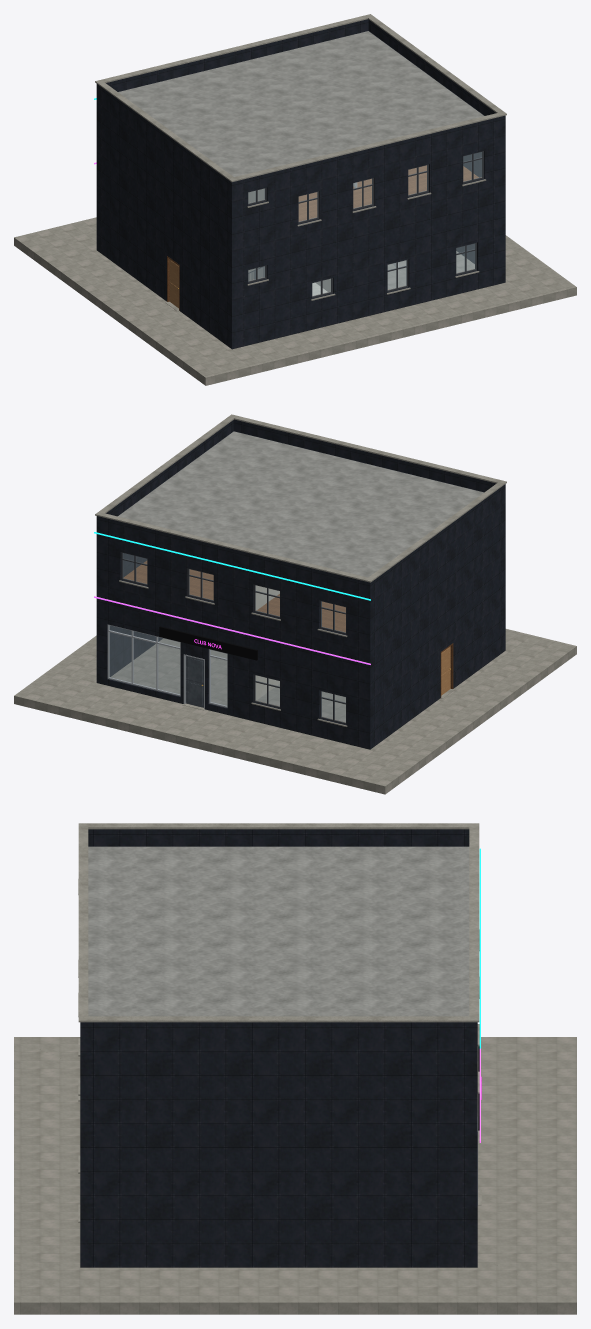
File: b_club_nova.gltf
The picture shows the model from 3 angles, top to bottom: view 1: azimuth 30°, elevation 25°; view 2: azimuth 150°, elevation 25°; view 3: azimuth 270°, elevation 25°; orthographic projection. The views are drawn at different scales.
Parts seen in each view (by area): view 1: S_club_nova; view 2: S_club_nova, D_club_nova_F1_S4_Door0; view 3: S_club_nova.
Part boxes in pixels (x1,y1,x2,y2): S_club_nova: (14, 14, 576, 385); S_club_nova: (14, 414, 576, 794); D_club_nova_F1_S4_Door0: (185, 656, 203, 707); S_club_nova: (14, 823, 576, 1314).
Bounding box in the file's own units: 19 × 8.66 × 17.
22 materials, 12 textured.
